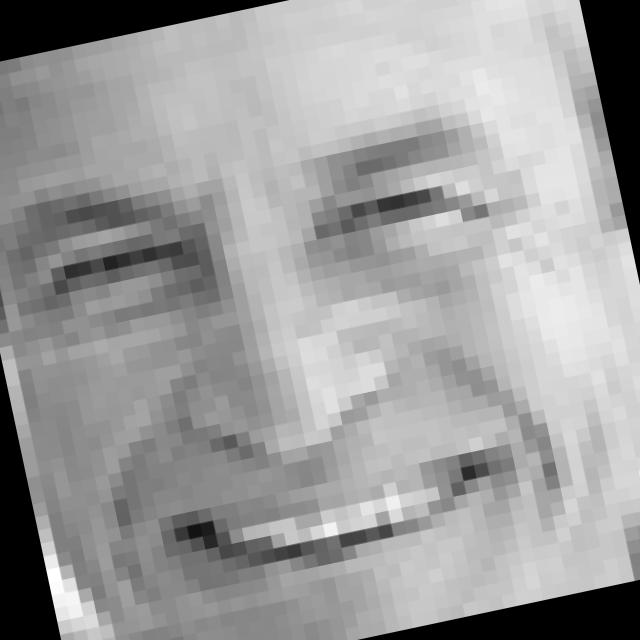happy: (0, 89, 601, 640)
